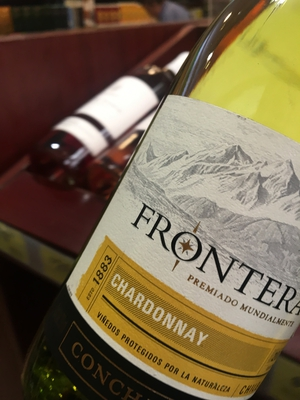frontera chardonnay: (59, 40, 300, 397)
